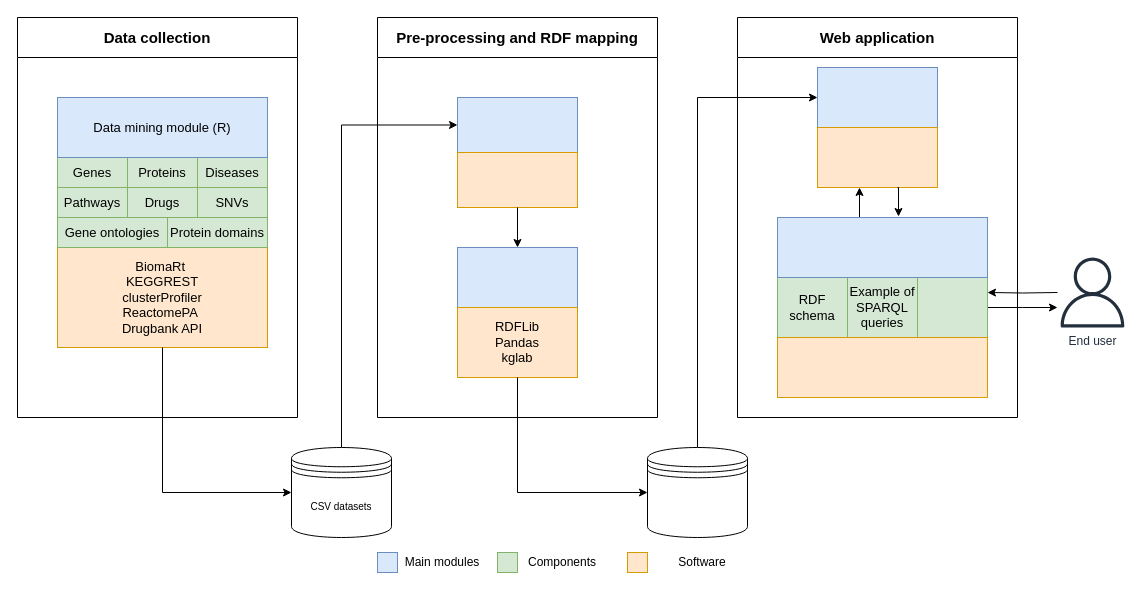
Some shapes in this 1145 by 595 pixel diagram are drawn without their labels. The centre of each missing label's shape, as x and y in pixels:
"Back end (Python)" belongs at (x=877, y=97).
"Data cleaning module (R)" belongs at (x=517, y=124).
"Front end (Python)" belongs at (x=882, y=247).
"Knowledge graph building module (Python)" belongs at (x=517, y=277).
"Query interface" belongs at (x=952, y=307).
"RDF store" belongs at (x=697, y=492).
"RDFLib Pandas" belongs at (x=877, y=157).
"Streamlit Plotly" belongs at (x=882, y=367).
"Tidyverse" belongs at (x=517, y=180).
